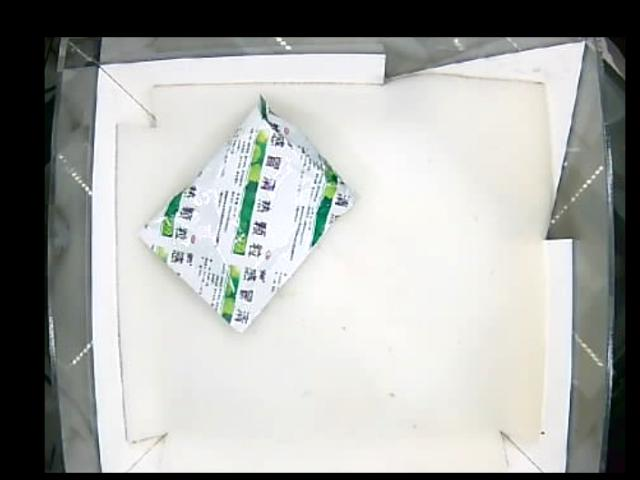Medicine: (135, 98, 354, 333)
